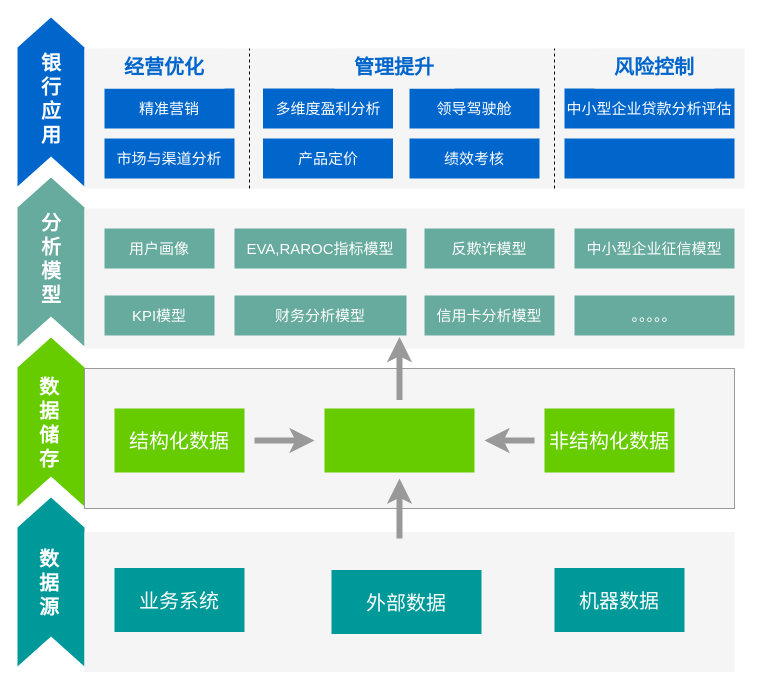
Some shapes in this 761 by 689 pixel diagram are drawn without their labels. The shapes that lost their labels are listed below. From the top down, each one's centre as x and y in pixels, then its label:
the point at 649,158: 实施欺诈交易分析
the point at 399,440: 企业级数据中心
